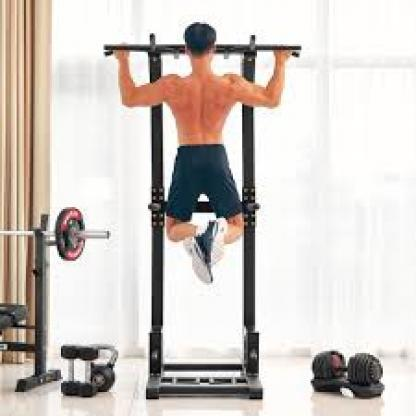chinning dipping: (106, 34, 303, 400)
